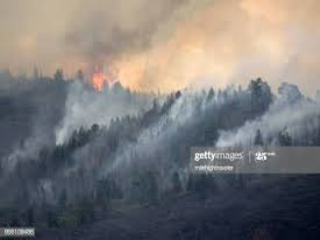fire: (77, 64, 127, 91)
smoke: (168, 85, 315, 146), (27, 83, 156, 148)
